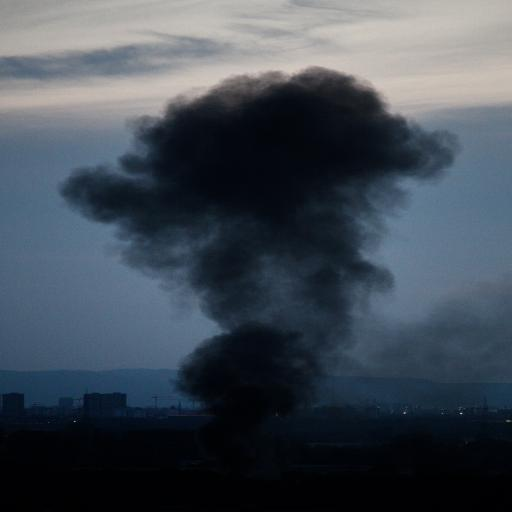smoke: (68, 61, 433, 482)
